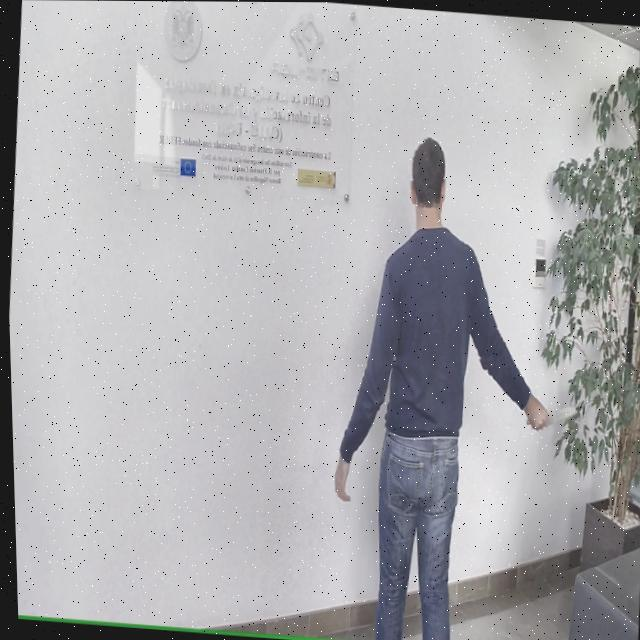knife: (543, 403, 575, 427)
